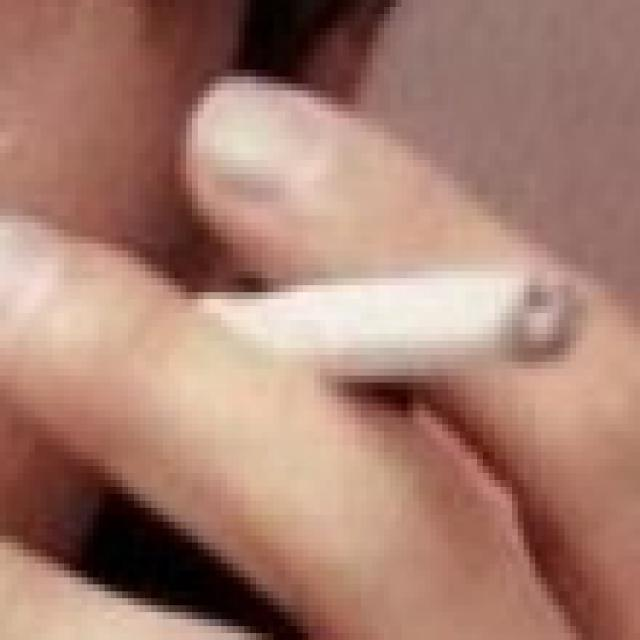smoking: (154, 263, 580, 378)
